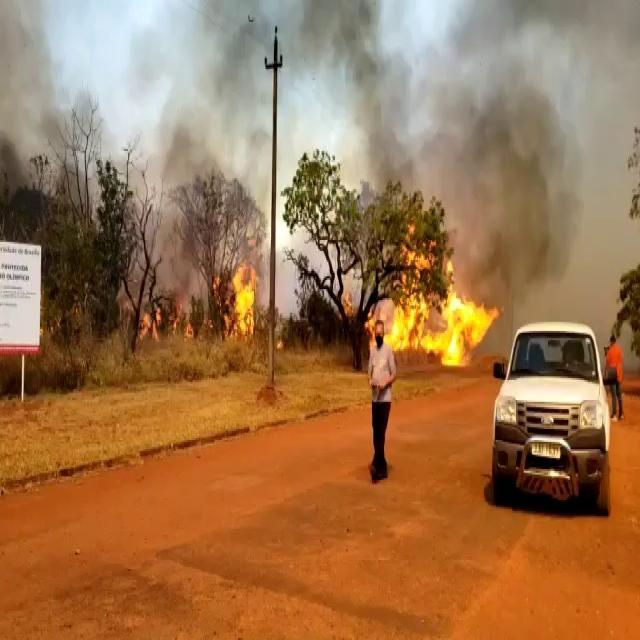Fire: (396, 306, 481, 366), (232, 271, 258, 339)
Smoke: (440, 102, 550, 263), (308, 3, 380, 63)
